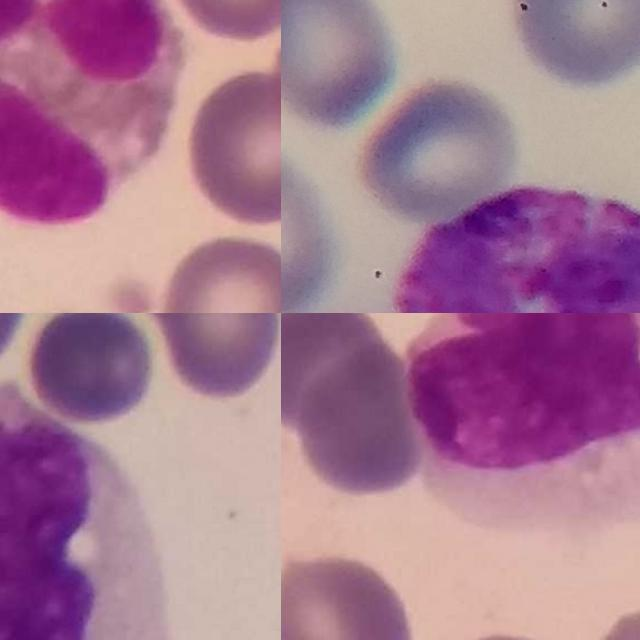Basophil: (400, 188, 640, 313)
Eosinophil: (0, 0, 181, 229)
Monocyte: (404, 313, 640, 541), (0, 391, 173, 640)
